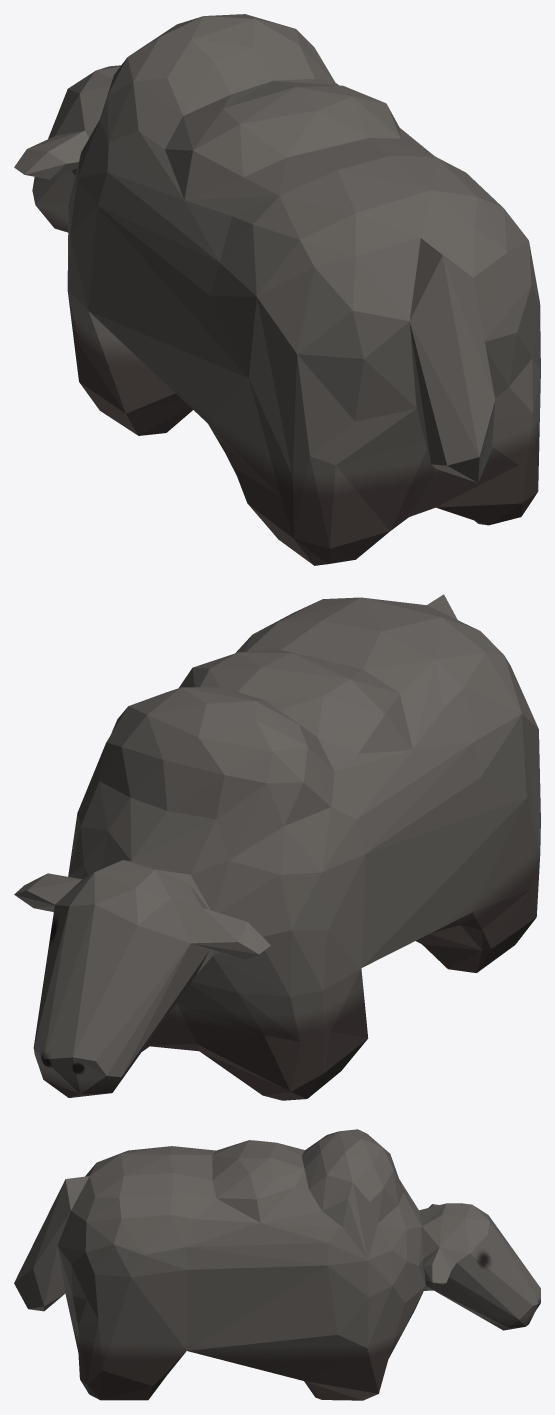
The model's file is animal_yak_female_blob.obj.
The picture shows the model from 3 angles, top to bottom: view 1: azimuth 30°, elevation 25°; view 2: azimuth 150°, elevation 25°; view 3: azimuth 270°, elevation 25°; orthographic projection. The views are drawn at different scales.
Parts seen in each view (by area): view 1: animal_yak_female_blob; view 2: animal_yak_female_blob; view 3: animal_yak_female_blob.
Boxes of the visible parts, x1=… form: animal_yak_female_blob: x1=14, y1=14, x2=540, y2=565; animal_yak_female_blob: x1=14, y1=594, x2=540, y2=1100; animal_yak_female_blob: x1=14, y1=1129, x2=540, y2=1400.
Size of the model in its own units: 0.8057 by 1.03 by 2.1.
